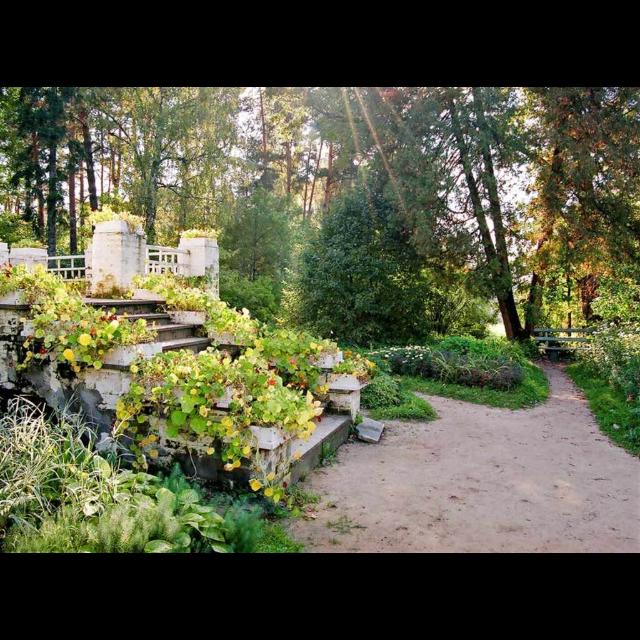Flower: (368, 344, 432, 364), (78, 333, 94, 345), (62, 349, 74, 361), (128, 366, 138, 374), (268, 379, 276, 387)
